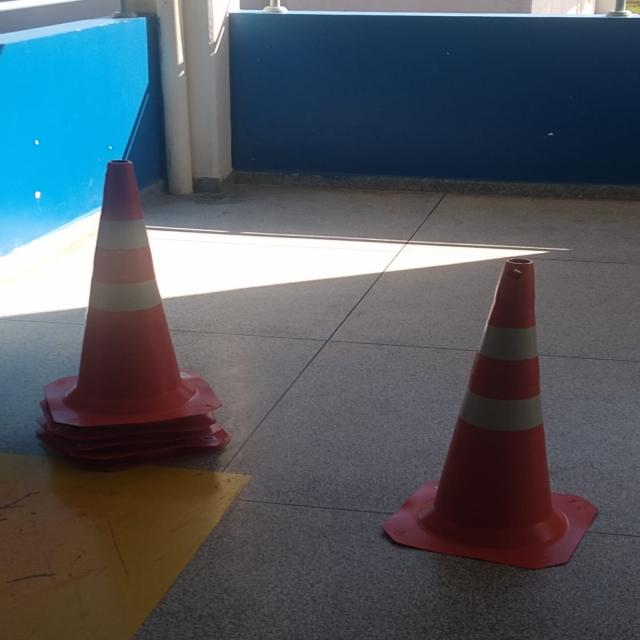cone: (377, 254, 614, 568), (25, 153, 242, 454)
